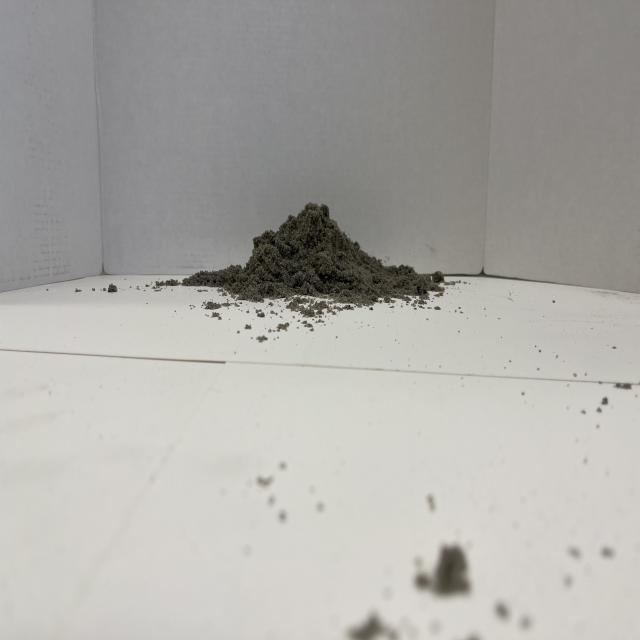sand: (204, 194, 421, 312)
